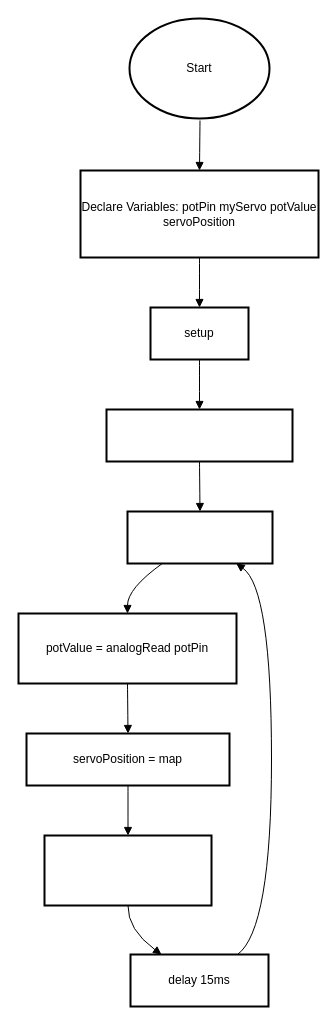
Some shapes in this 336 by 1024 pixel diagram are drawn without their labels. The shapes that lost their labels are listed below. From the top down, each one's centre as x and y in pixels, then its label:
At pixel 199 435: "myServo.attach 9".
At pixel 199 537: "Repeat loop".
At pixel 127 870: "myServo.write servoPosition".
